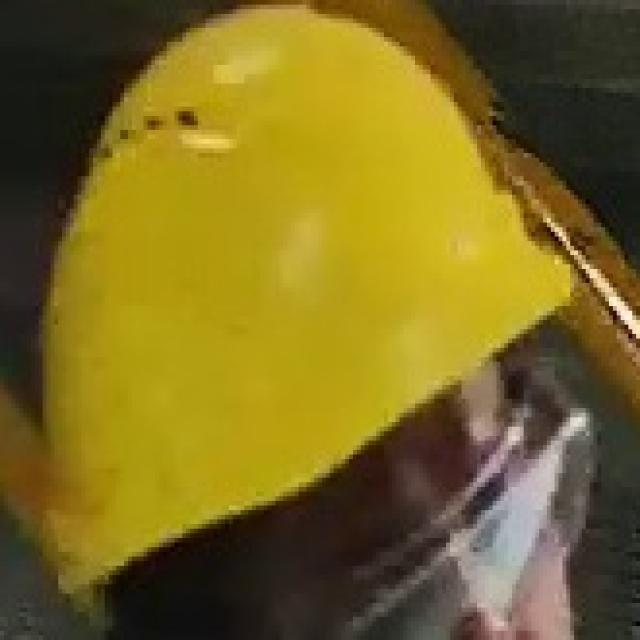yellow helmet: (31, 1, 576, 591)
